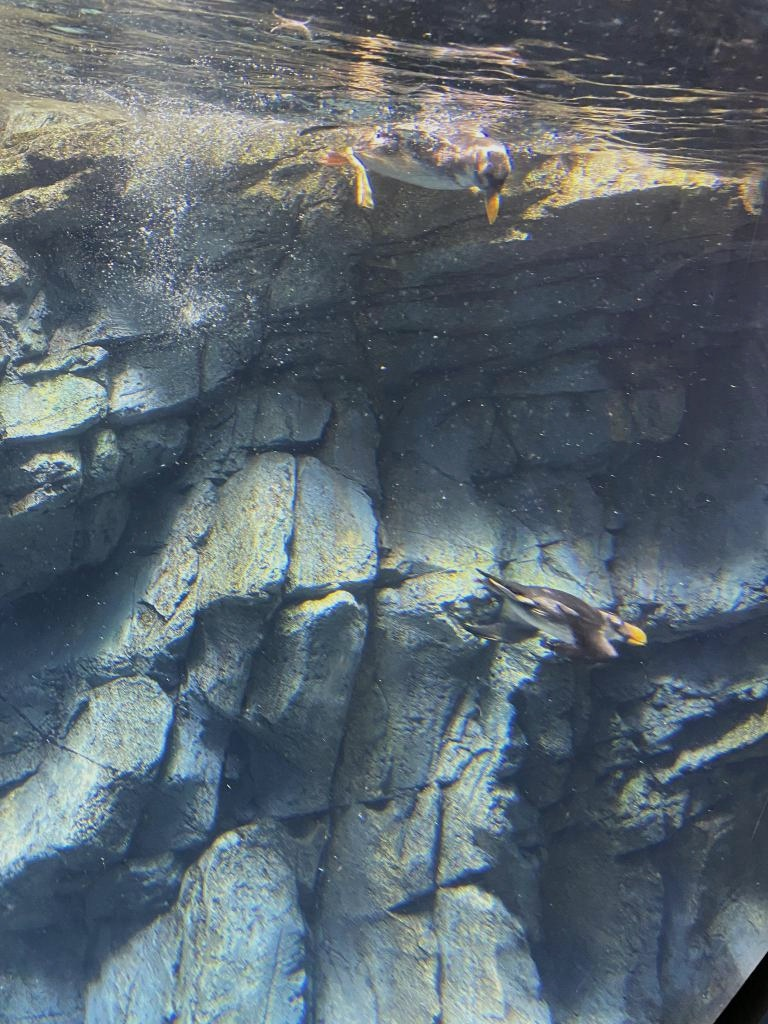puffin: (319, 118, 511, 226), (458, 566, 646, 664)
